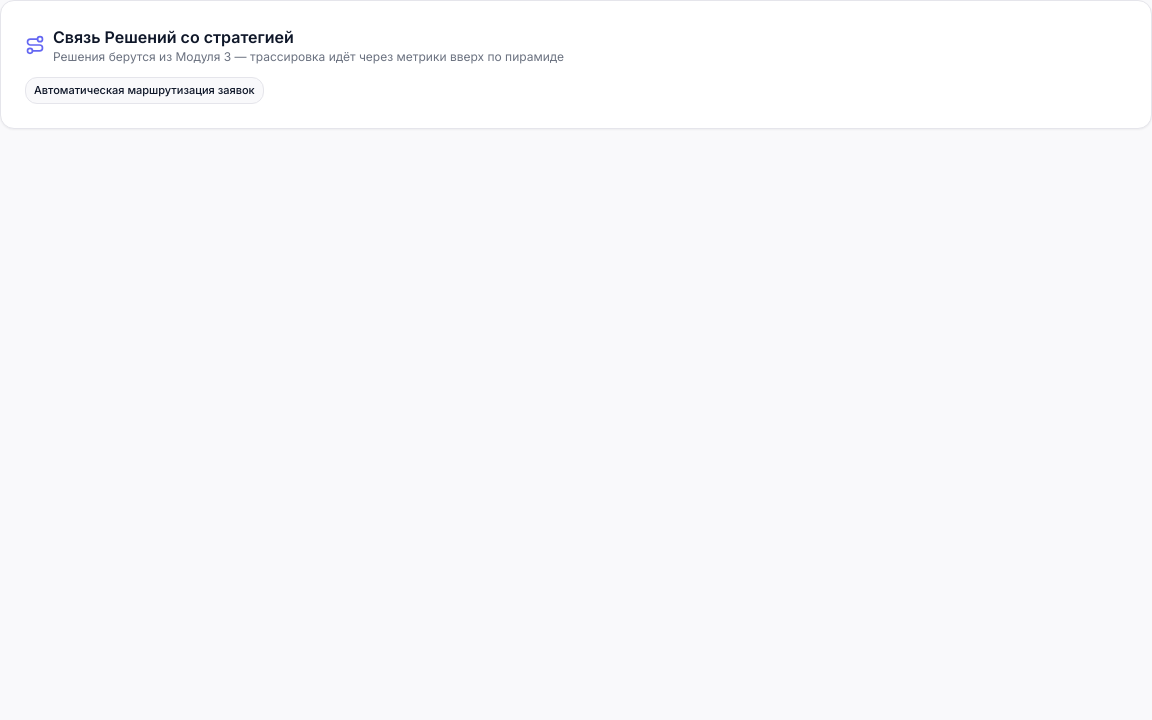
Test: SolutionTrace › кнопка «Проверить связанность» вызывает analyze-pyramid-link и группирует рекомендации
This screenshot has width=1152, height=720.
Click the button with test id "trace-solution-kr-0:0": point(144, 90) [25,77,264,104]
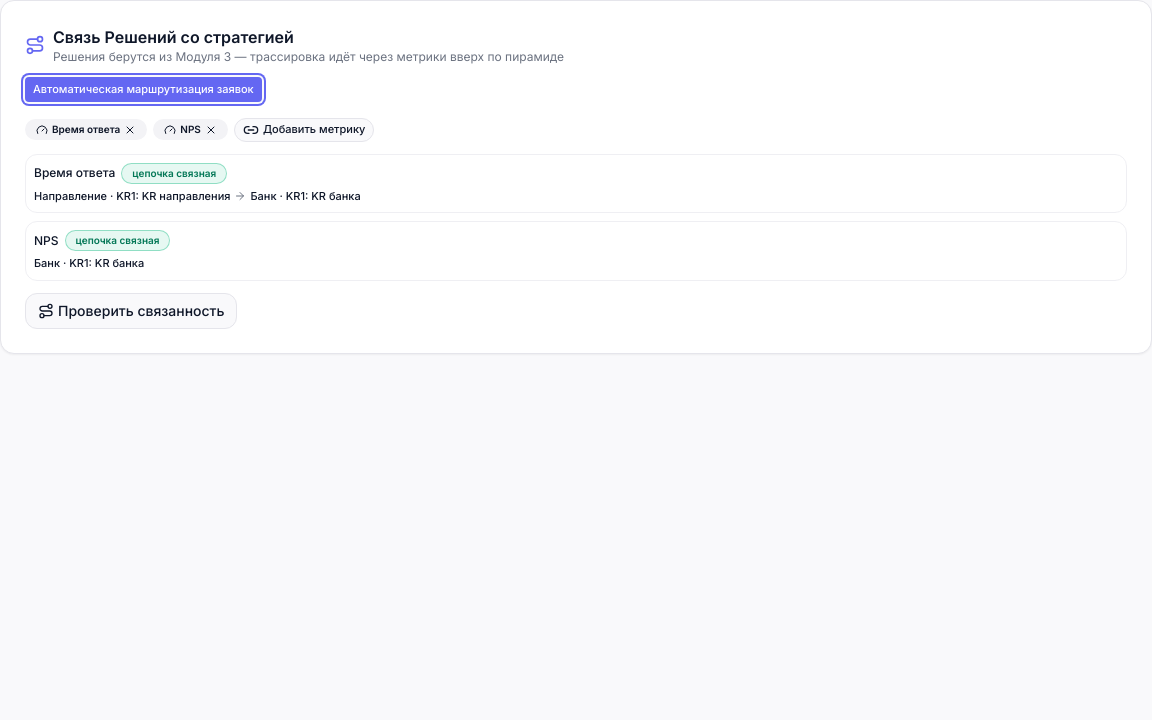
Click the button "Проверить связанность": point(131, 310) [25,292,238,328]
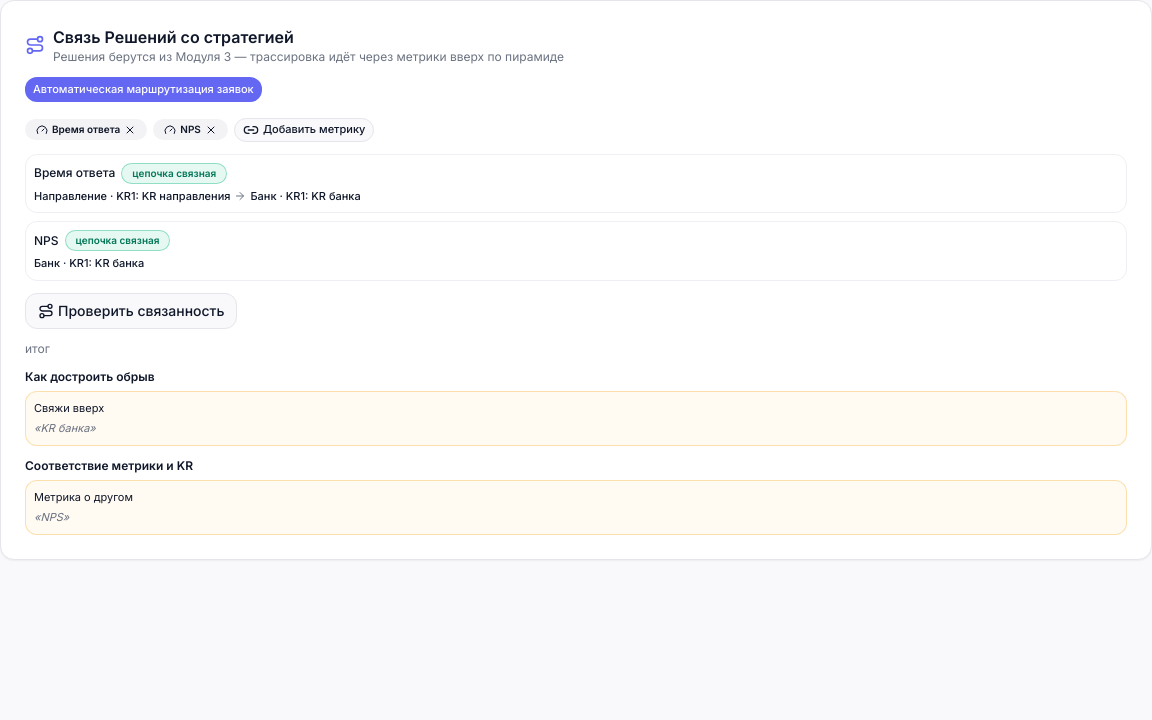
Now the element with test id "rec-group-bridge_gap" is shown, box [25,368,1127,446]
Now the element with test id "rec-group-metric_mismatch" is shown, box [25,458,1127,534]
